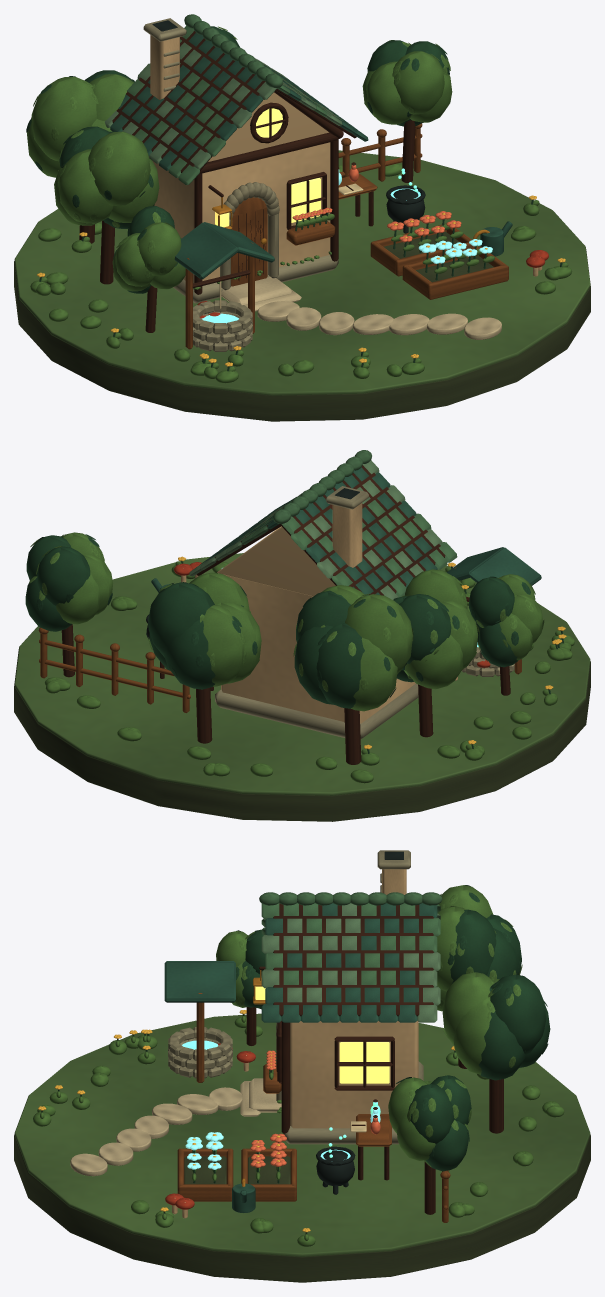
The model's file is garden.glb.
The picture shows the model from 3 angles, top to bottom: view 1: azimuth 30°, elevation 25°; view 2: azimuth 150°, elevation 25°; view 3: azimuth 270°, elevation 25°; orthographic projection.
Parts seen in each view (by area): view 1: Storybook garden; view 2: Storybook garden; view 3: Storybook garden.
Boxes of the visible parts, x1=… form: Storybook garden: x1=14, y1=14, x2=590, y2=421; Storybook garden: x1=14, y1=450, x2=590, y2=821; Storybook garden: x1=14, y1=850, x2=590, y2=1282.
Bounding box in the file's own units: 11.3 × 5.66 × 11.3.
21 materials, 21 textured.
